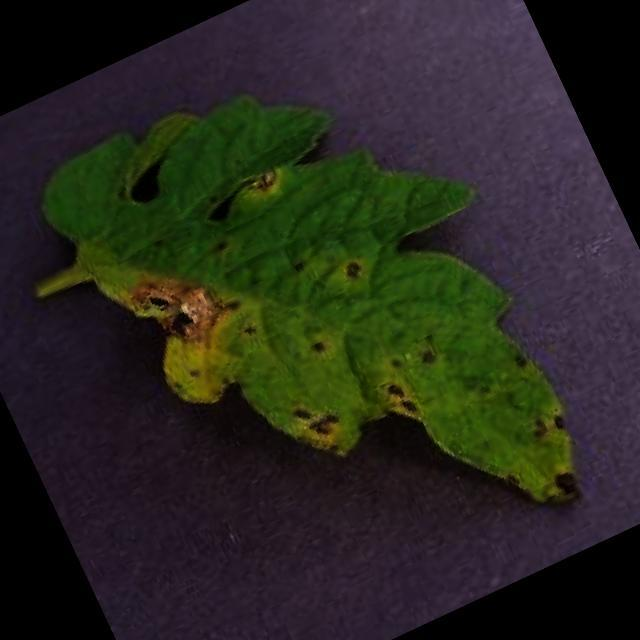Tomato Septoria spot leaf: (18, 4, 616, 640)
